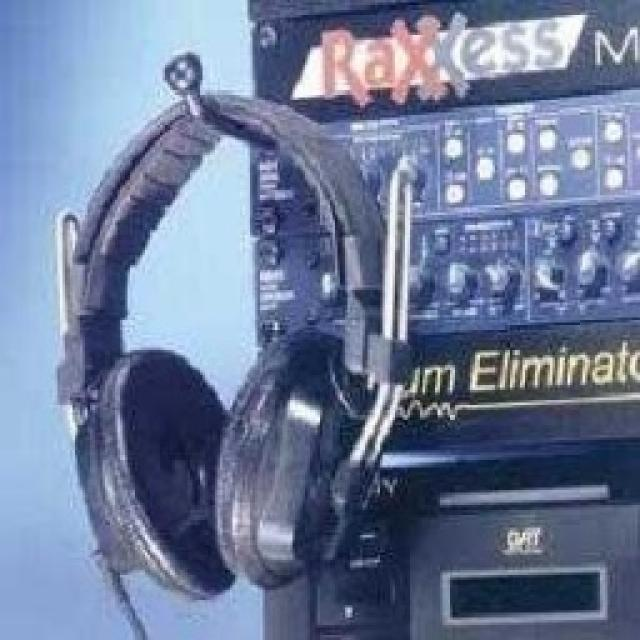kulaklik: (47, 37, 444, 640)
